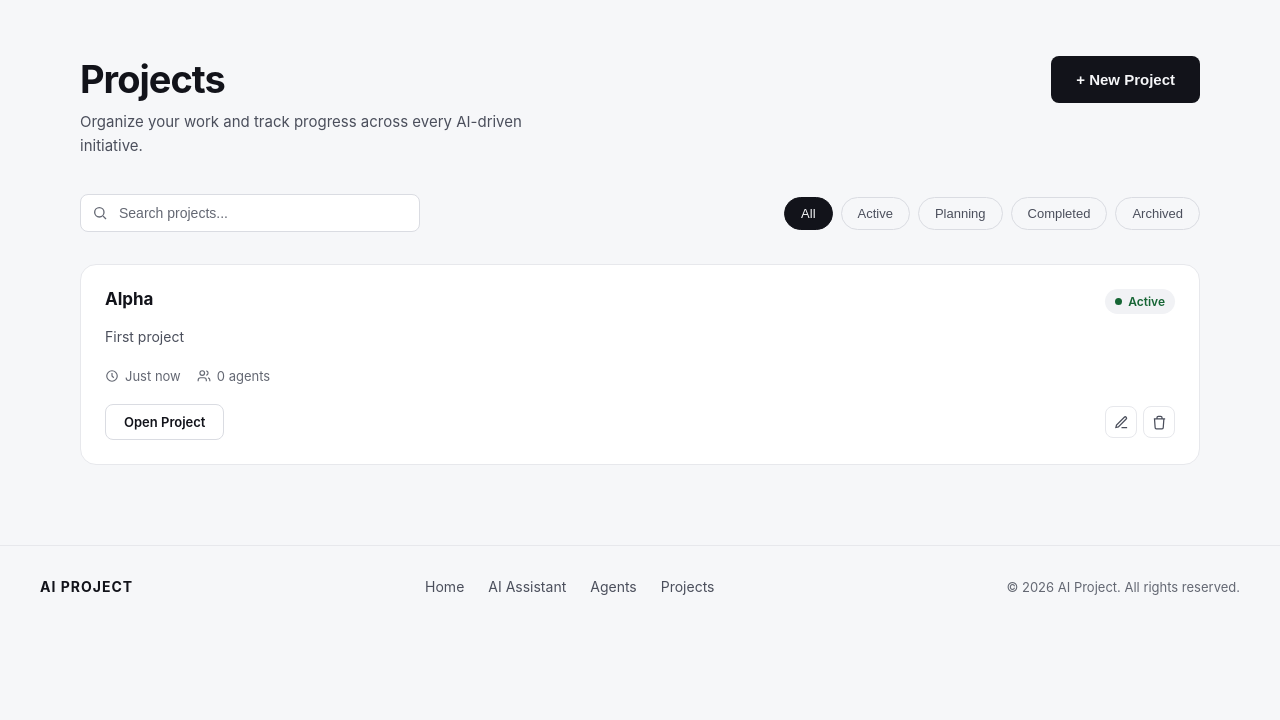
Test: Projects — mutations › updates a project and reflects the change in the cached list
Check: the heading "Alpha" is shown, box 105,289 -> 154,309
Click the button named "Edit Alpha" at (1121, 422), box 1105,406 -> 1137,438
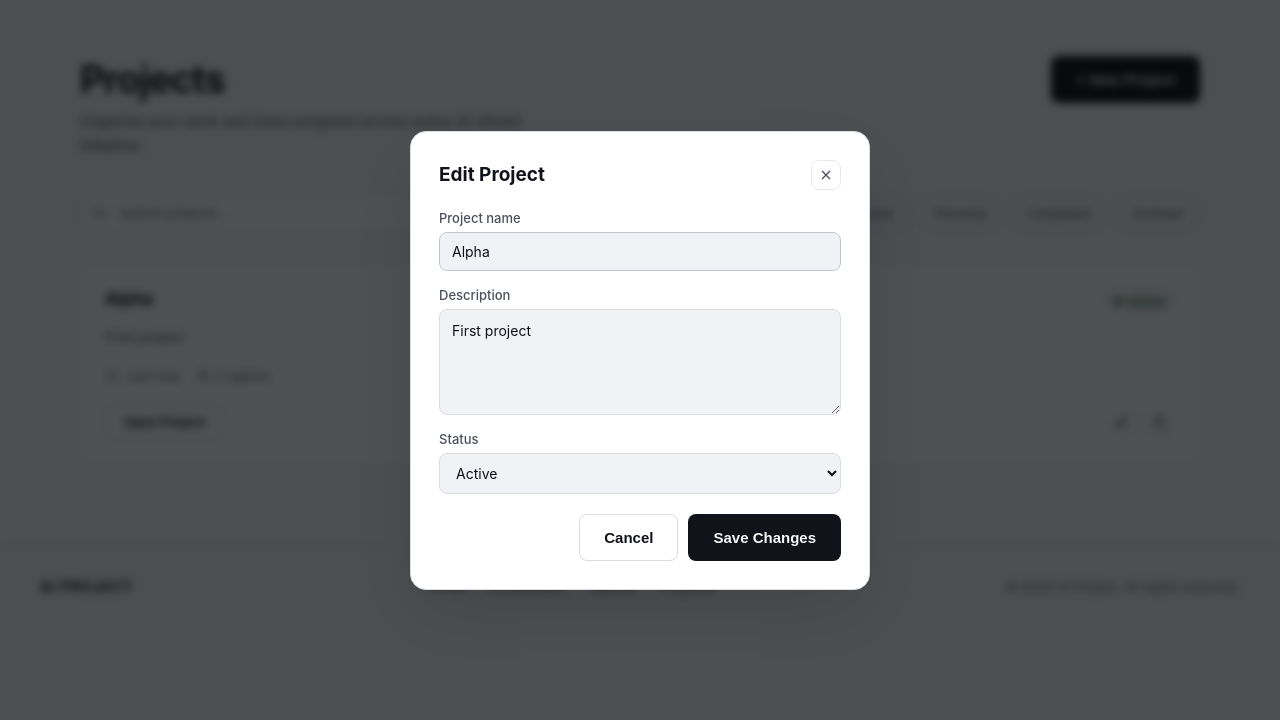
Replace the text in the field labelled "Project name" with "Alpha Updated" at (640, 251), box 439,232 -> 841,270
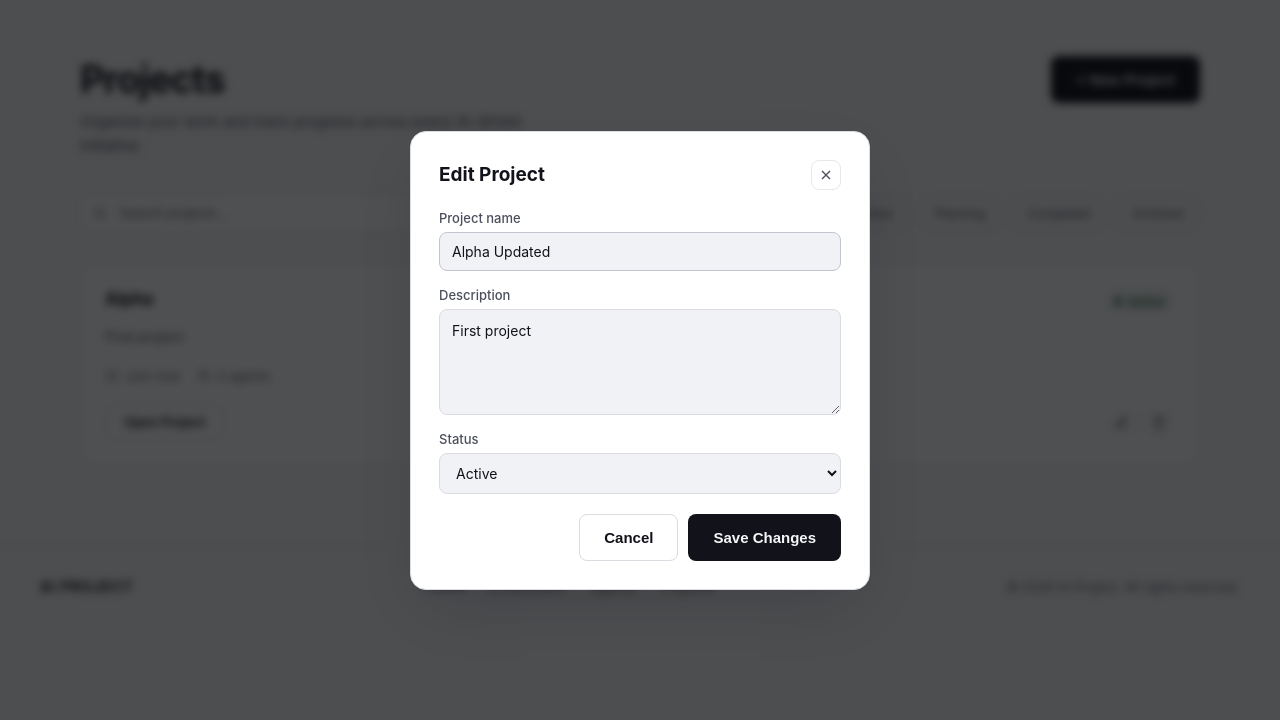
Click the button "Save Changes" at (765, 537), box 688,514 -> 841,560
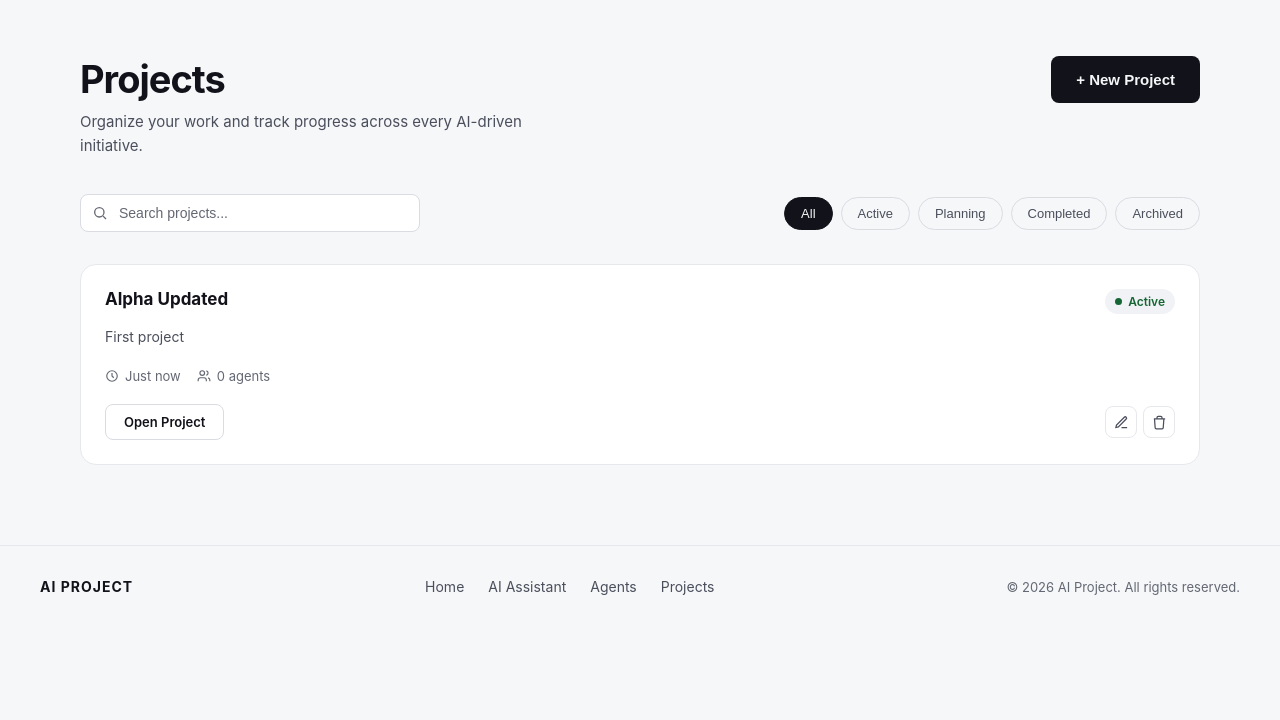
Check: the heading "Alpha Updated" is shown, box 105,289 -> 228,309
Check: the dialog is gone
